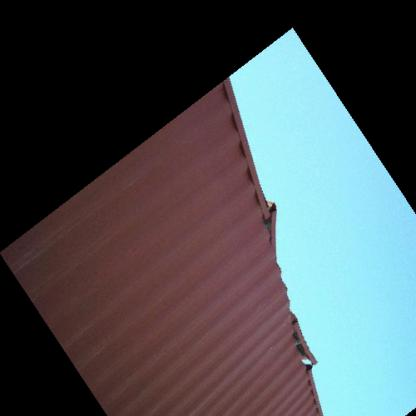Damage: (266, 186, 324, 376)
